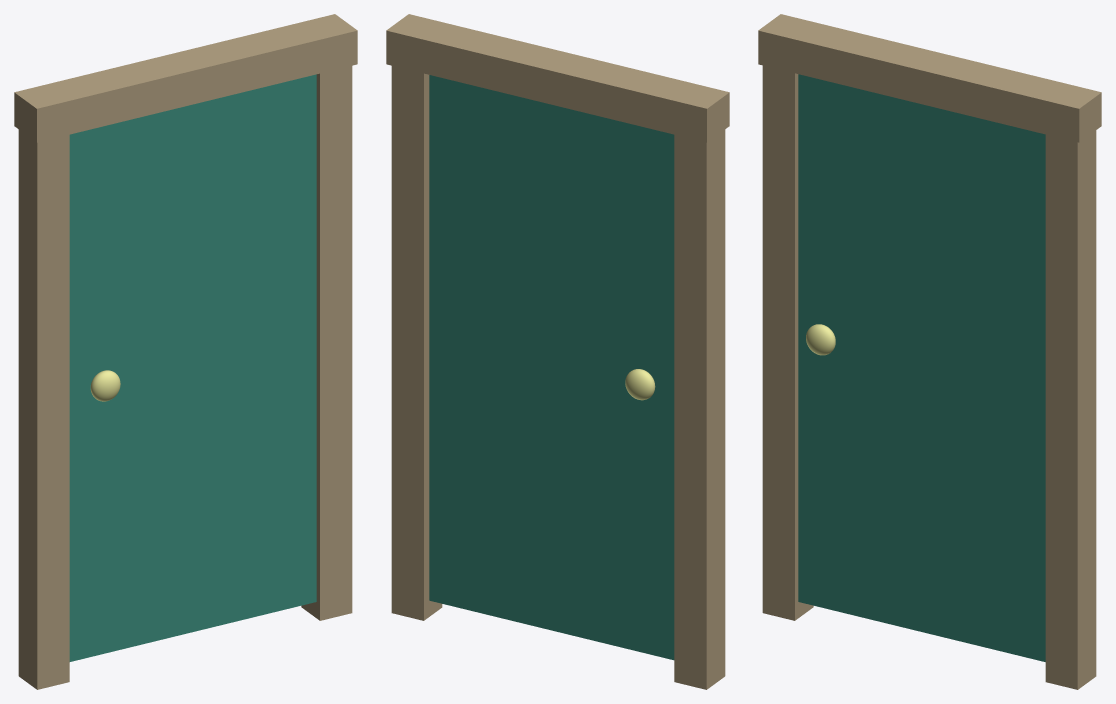
Rendered from DOOR_smal.fbx.
3 views of the same model, side by side, from view 1: azimuth 30°, elevation 25°; view 2: azimuth 150°, elevation 25°; view 3: azimuth 330°, elevation 25° (orthographic).
Parts seen in each view (by area): view 1: Cube.028, Cube.026, Cylinder.001; view 2: Cube.028, Cube.026, Cylinder.001; view 3: Cube.028, Cube.026, Cylinder.001.
Part boxes in pixels (bbox=[...]): Cube.028: bbox=[69, 74, 316, 661]; Cube.026: bbox=[14, 14, 357, 689]; Cylinder.001: bbox=[90, 370, 120, 401]; Cube.028: bbox=[429, 75, 674, 660]; Cube.026: bbox=[386, 14, 729, 689]; Cylinder.001: bbox=[625, 369, 655, 400]; Cube.028: bbox=[798, 74, 1045, 661]; Cube.026: bbox=[758, 14, 1101, 689]; Cylinder.001: bbox=[806, 324, 835, 355].
Bounding box in the file's own units: 609 × 1058 × 122.
